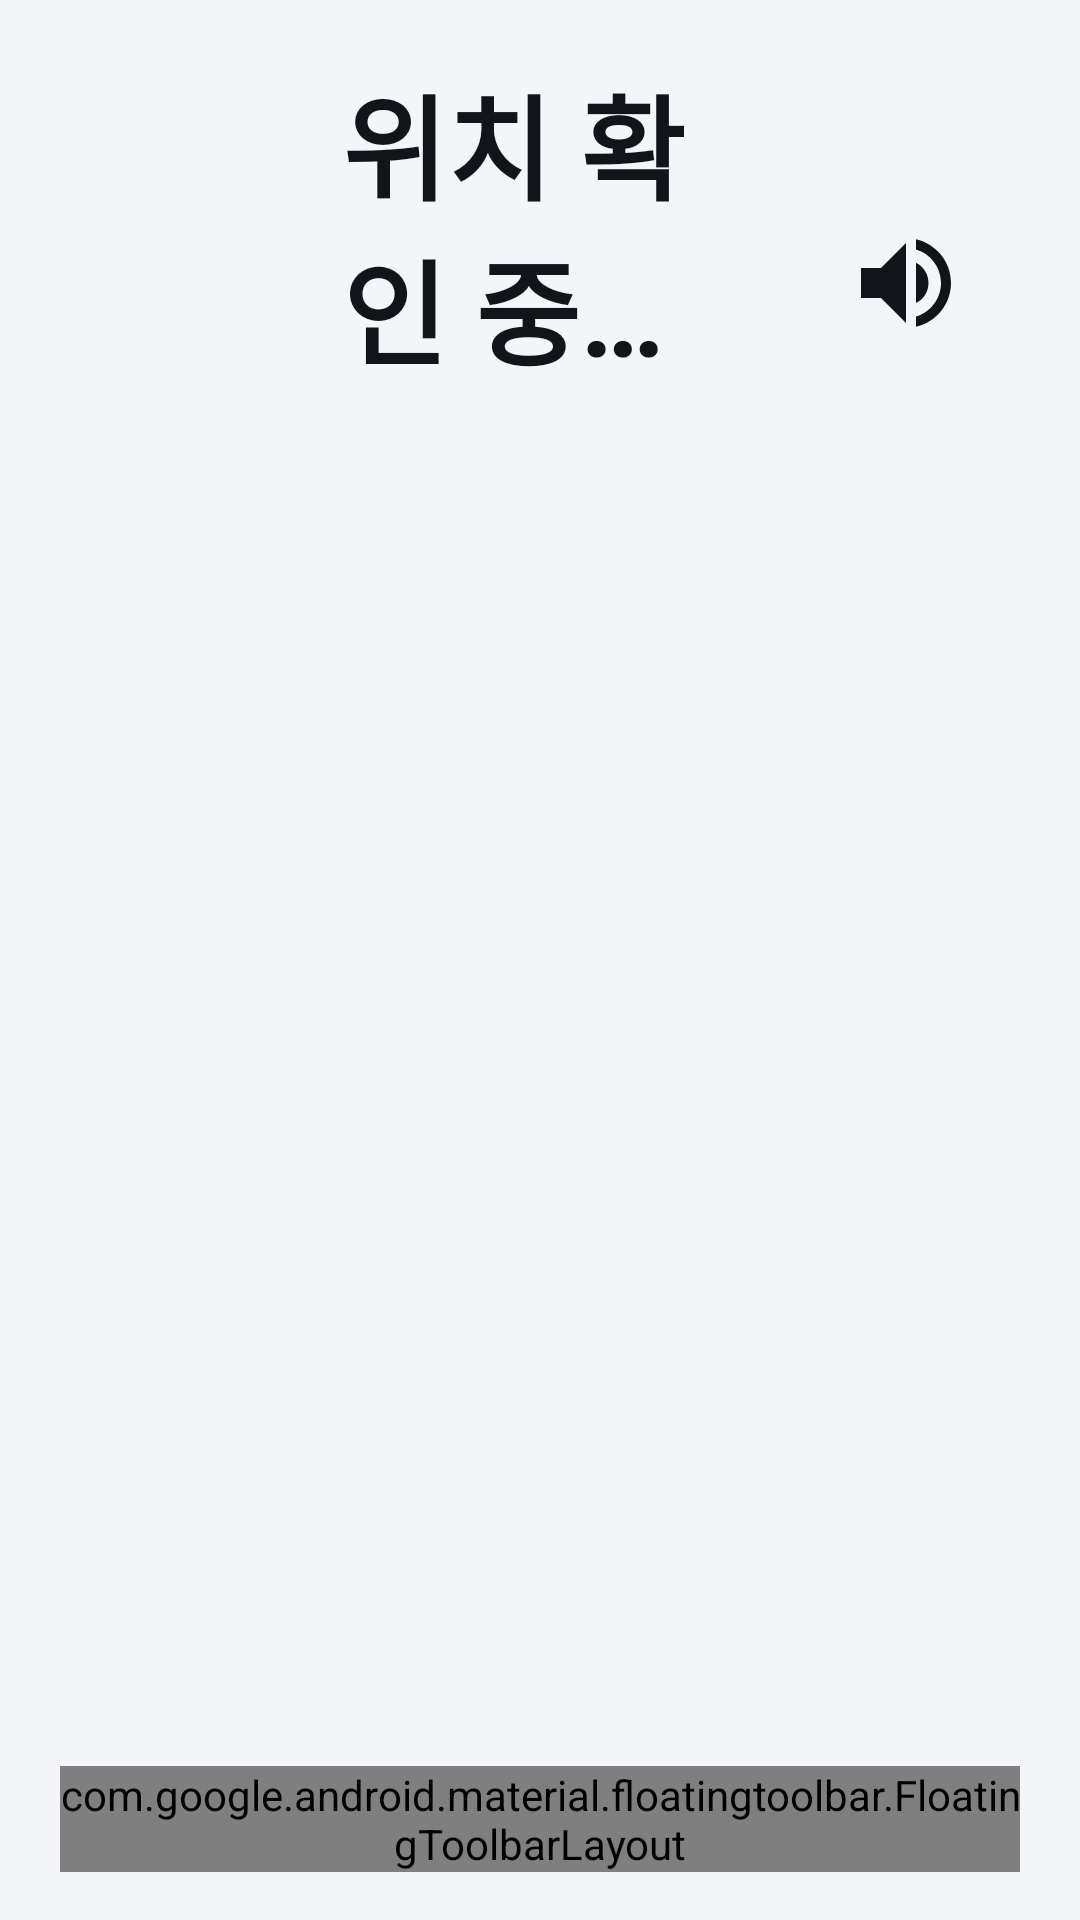

Point at icon controls on the screen. Image size 1080*1920, points as (x=x, y=y).
volume: (x=906, y=283)
